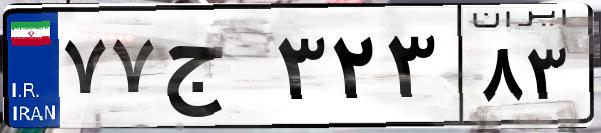2: (330, 28, 385, 110)
3: (270, 28, 330, 110), (385, 28, 445, 110), (525, 38, 570, 115)
7: (57, 26, 110, 100), (110, 28, 158, 98)
8: (475, 38, 525, 113)
ج: (158, 20, 270, 120)
